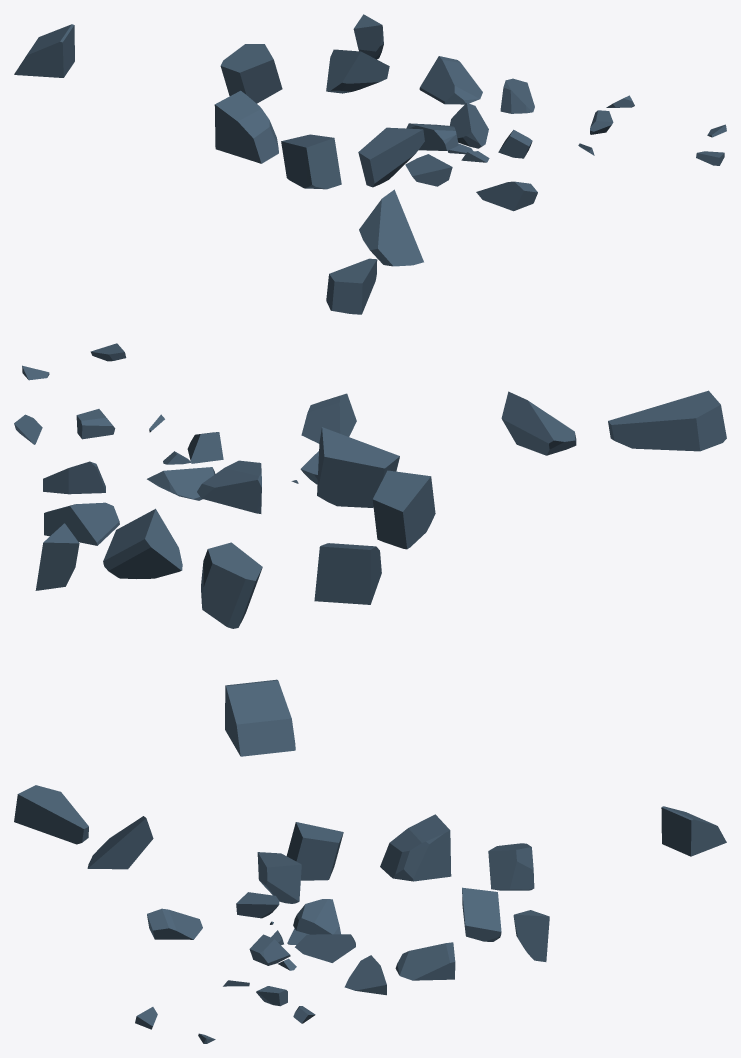
File: RockGroup2.fbx
The picture shows the model from 3 angles, top to bottom: view 1: azimuth 30°, elevation 25°; view 2: azimuth 150°, elevation 25°; view 3: azimuth 270°, elevation 25°; orthographic projection. The views are drawn at different scales.
Visible parts, largest first — view 1: StoneGroup2; view 2: StoneGroup2; view 3: StoneGroup2.
Part boxes in pixels (<box>): StoneGroup2: <box>14,14,726,314</box>; StoneGroup2: <box>14,343,726,756</box>; StoneGroup2: <box>14,785,726,1043</box>.
Size of the model in its own units: 4097 by 505 by 5292.
